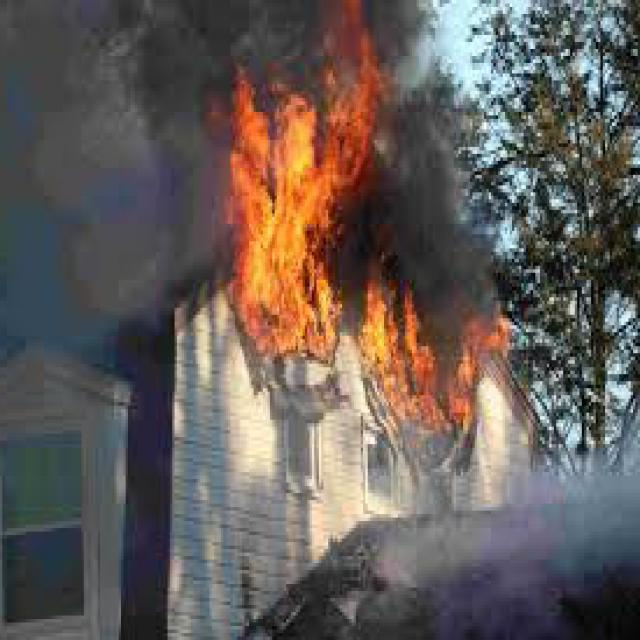Fire: (223, 104, 379, 413), (331, 308, 527, 446)
Smoke: (0, 9, 379, 358), (356, 12, 502, 310)
